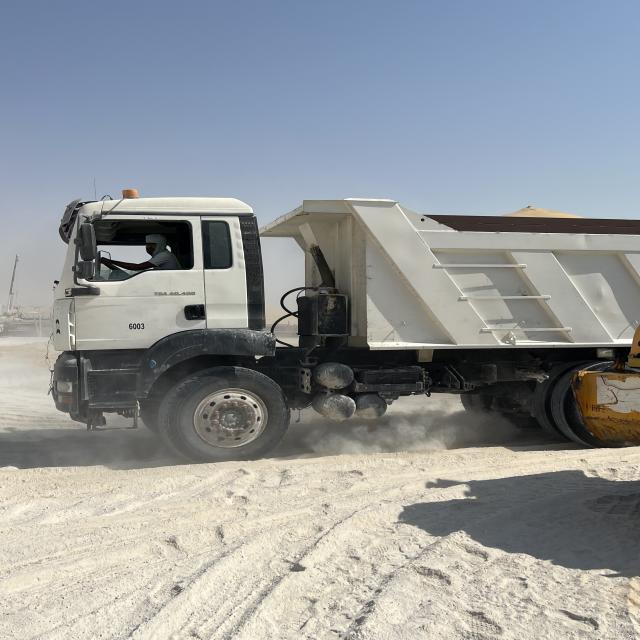Dump Truck: (46, 185, 638, 471)
